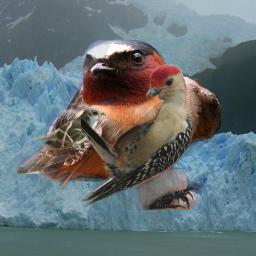Cuckoo: (33, 106, 106, 150)
Swallow: (17, 40, 221, 210)
Woodpecker: (81, 64, 192, 210)
